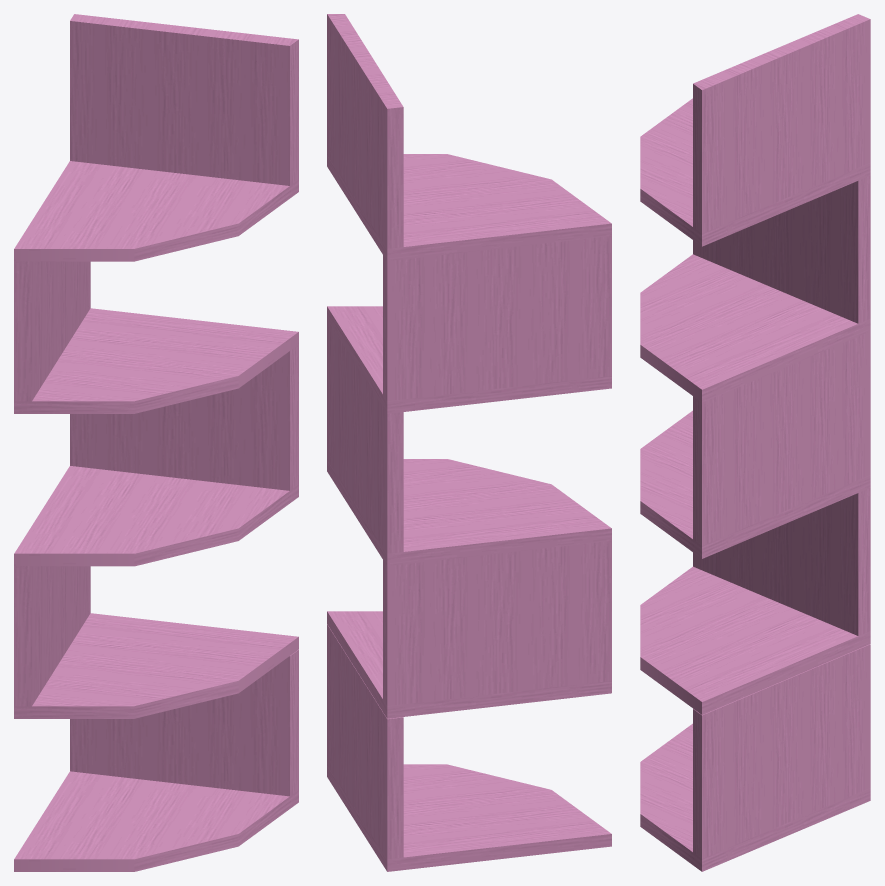
The model's file is Corner_Shelving_10.FBX.
The picture shows the model from 3 angles, left to right: view 1: azimuth 30°, elevation 25°; view 2: azimuth 150°, elevation 25°; view 3: azimuth 270°, elevation 25°; orthographic projection. The views are drawn at different scales.
Visible parts, largest first — view 1: Corner_Shelving; view 2: Corner_Shelving; view 3: Corner_Shelving.
Part boxes in pixels (x1=…): Corner_Shelving: x1=14, y1=14, x2=298, y2=871; Corner_Shelving: x1=327, y1=14, x2=611, y2=871; Corner_Shelving: x1=640, y1=14, x2=870, y2=871.
Bounding box in the file's own units: 141 × 362 × 96.59.
